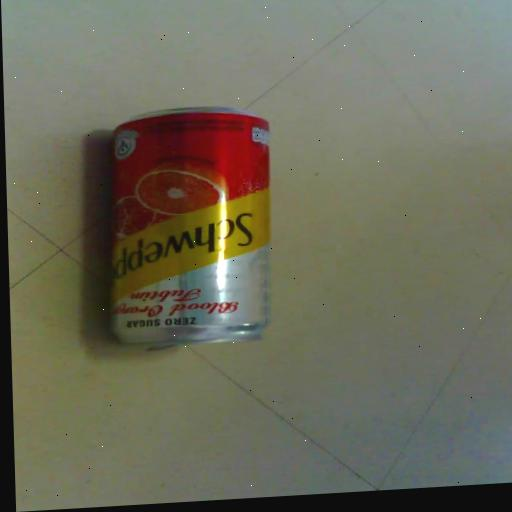canned: (70, 90, 293, 361)
